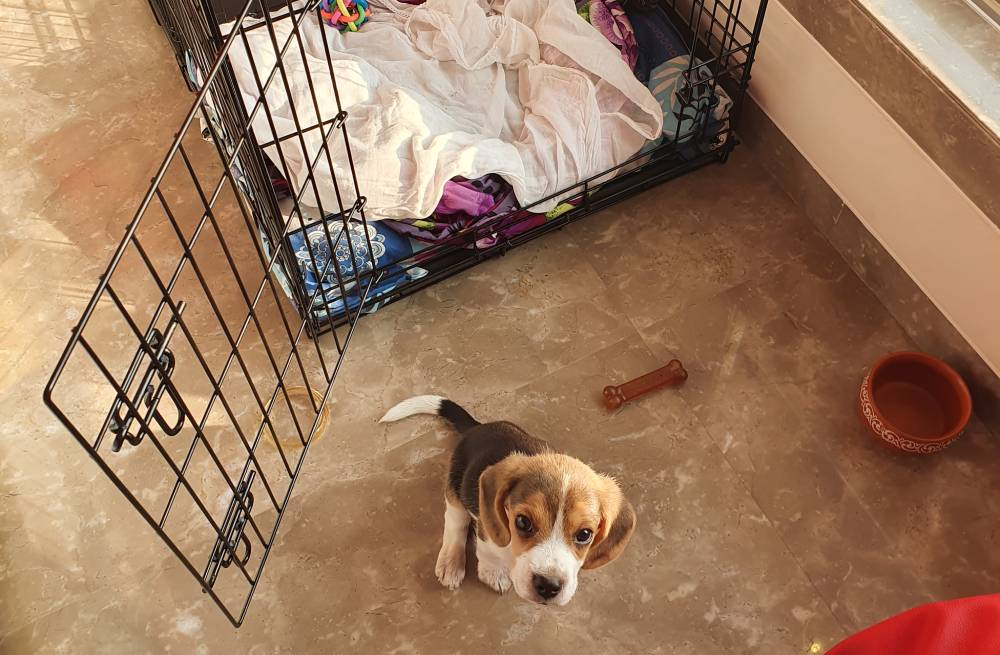dog: (369, 377, 661, 621)
